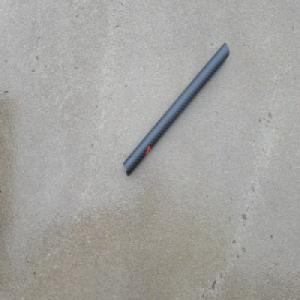LuggagePart: (122, 41, 229, 180)
